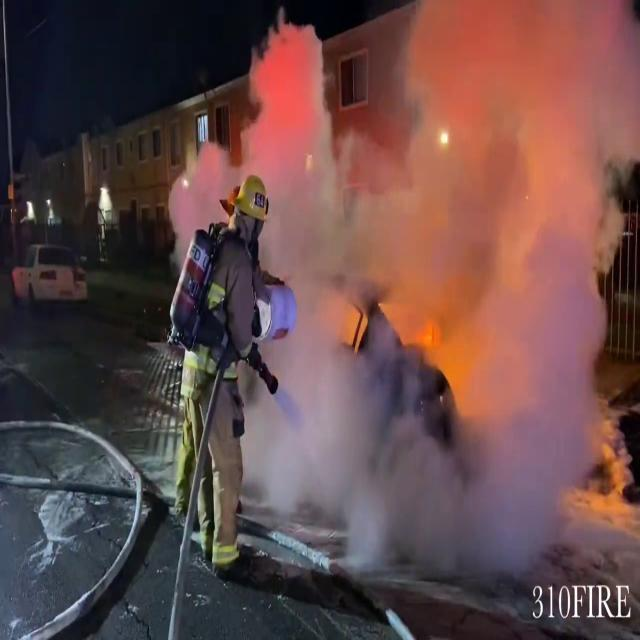Smoke: (235, 4, 640, 558)
